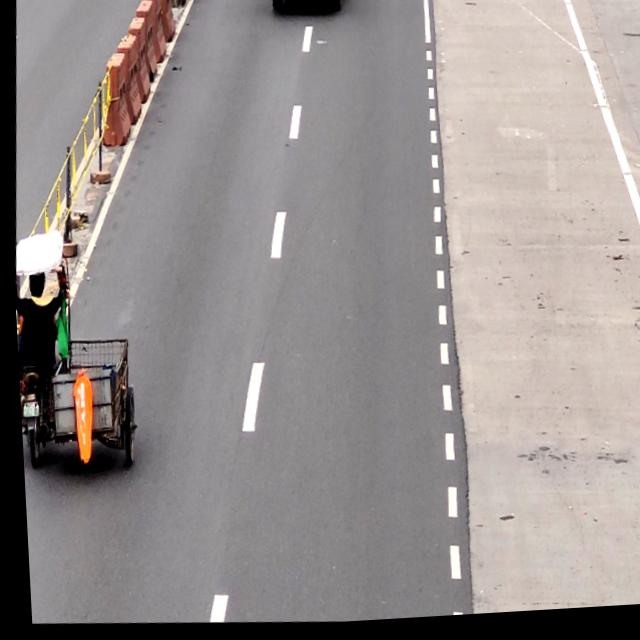Tricycle: (9, 222, 144, 477)
